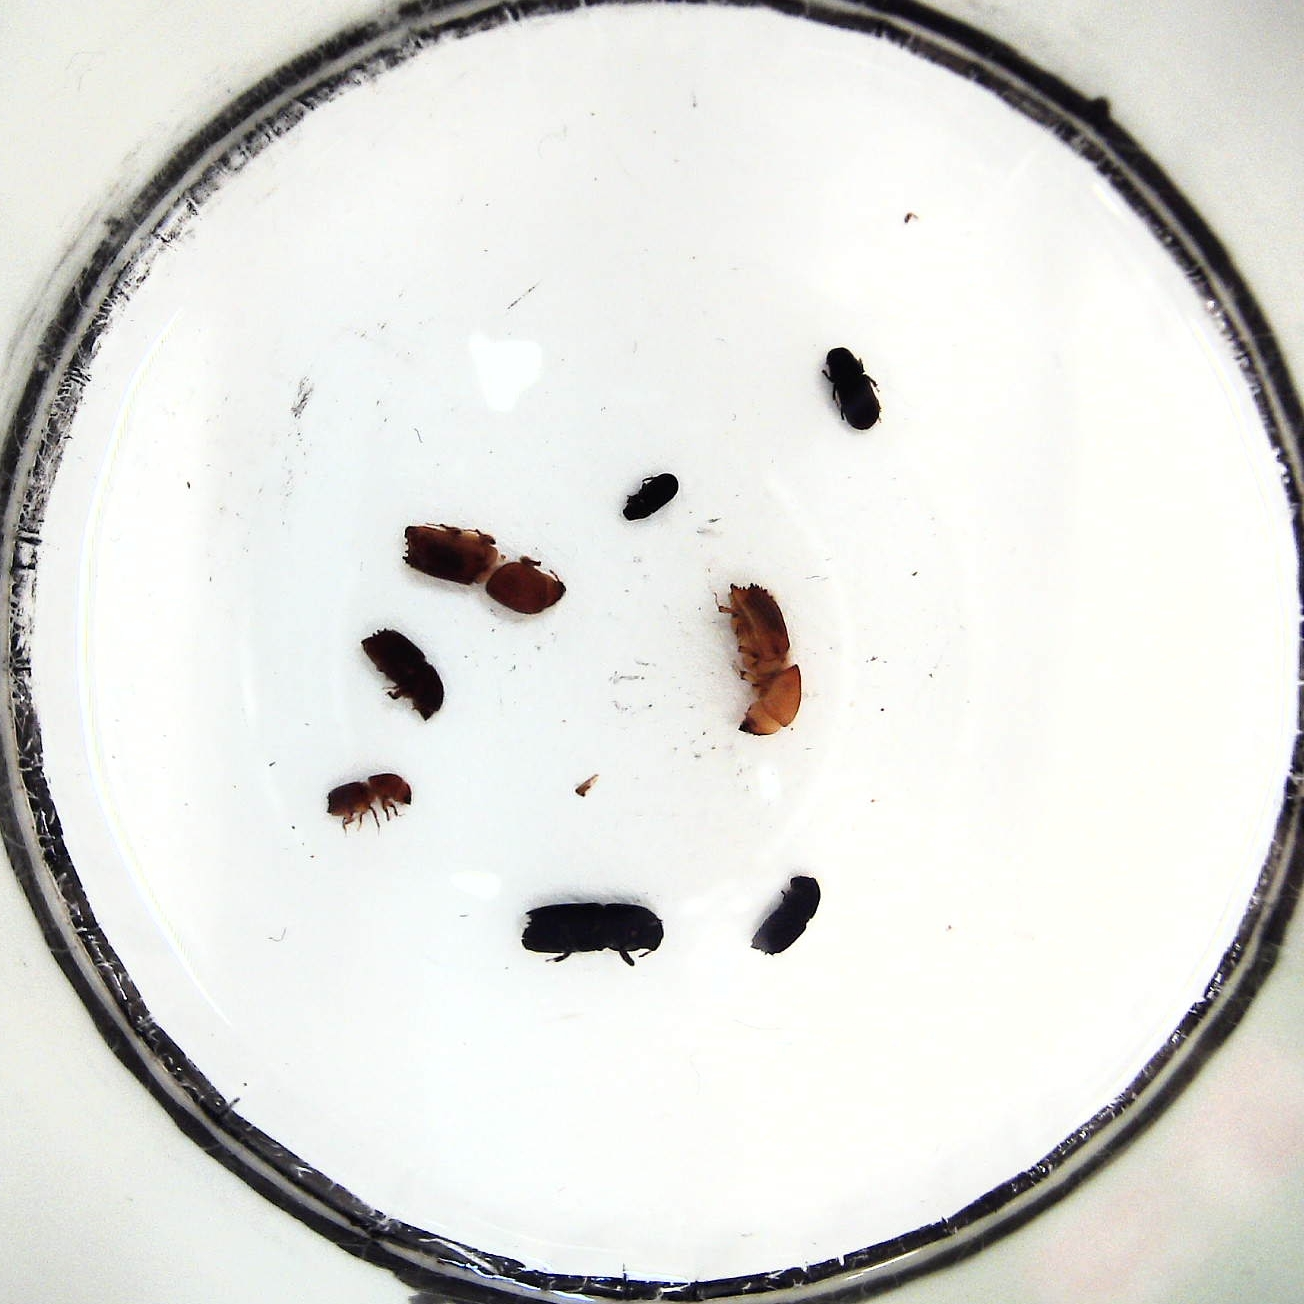Boerner: (401, 519, 568, 619), (719, 577, 804, 742), (510, 902, 666, 965)
Linnaeus: (356, 626, 445, 731), (745, 871, 823, 960)
acuminatus: (327, 770, 416, 832)
armandi: (823, 344, 884, 436)
coleoptera: (615, 470, 684, 524)
